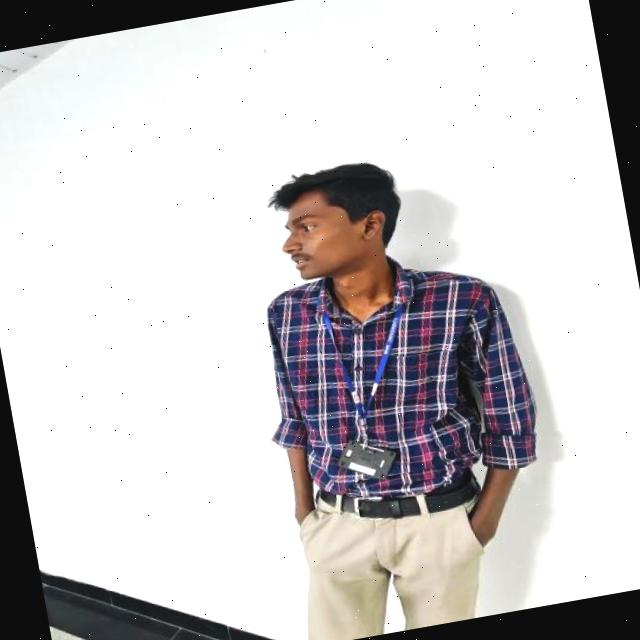Card: (338, 440, 396, 479)
Id strap: (322, 304, 403, 423)
